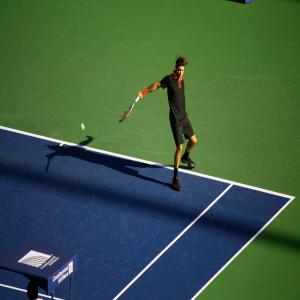TennisBall: (82, 125, 85, 131)
